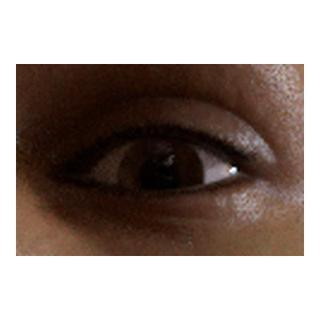pupil: (140, 157, 180, 197)
